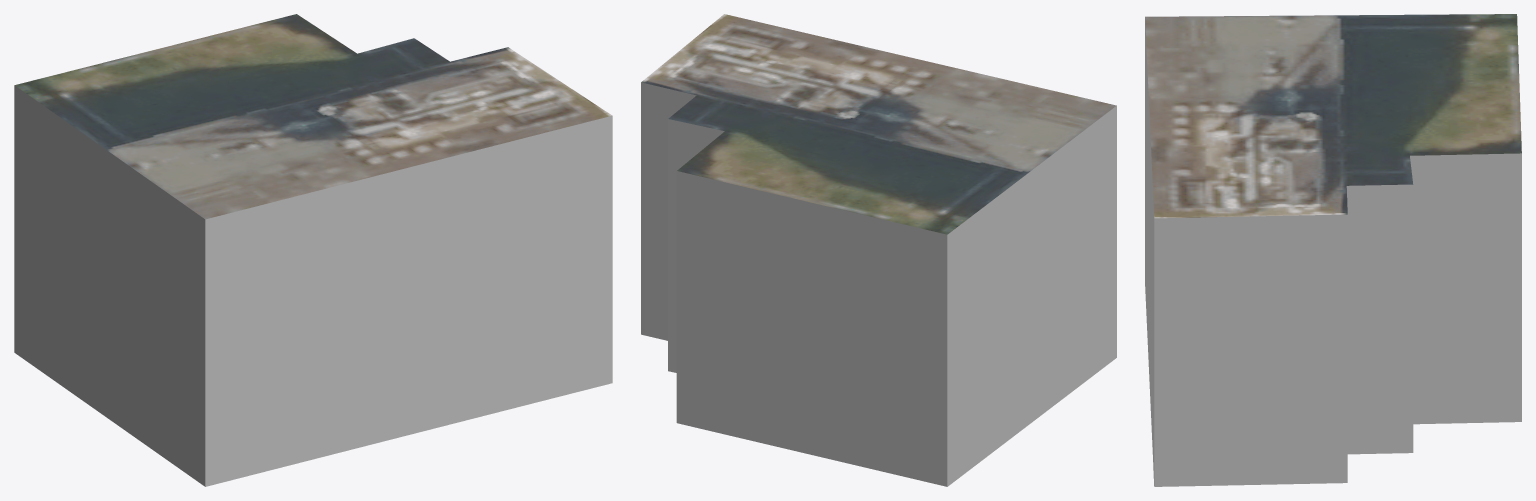
The model's file is DEBW_0010007Tx8i.gltf.
The picture shows the model from 3 angles, left to right: view 1: azimuth 30°, elevation 25°; view 2: azimuth 150°, elevation 25°; view 3: azimuth 270°, elevation 25°; orthographic projection. The views are drawn at different scales.
Parts seen in each view (by area): view 1: Z_UP; view 2: Z_UP; view 3: Z_UP.
Boxes of the visible parts, bbox=[...] form: Z_UP: bbox=[14, 14, 612, 486]; Z_UP: bbox=[641, 14, 1116, 486]; Z_UP: bbox=[1145, 14, 1521, 486].
Bounding box in the file's own units: 31.21 × 19.12 × 24.31.
2 materials, 1 textured.
